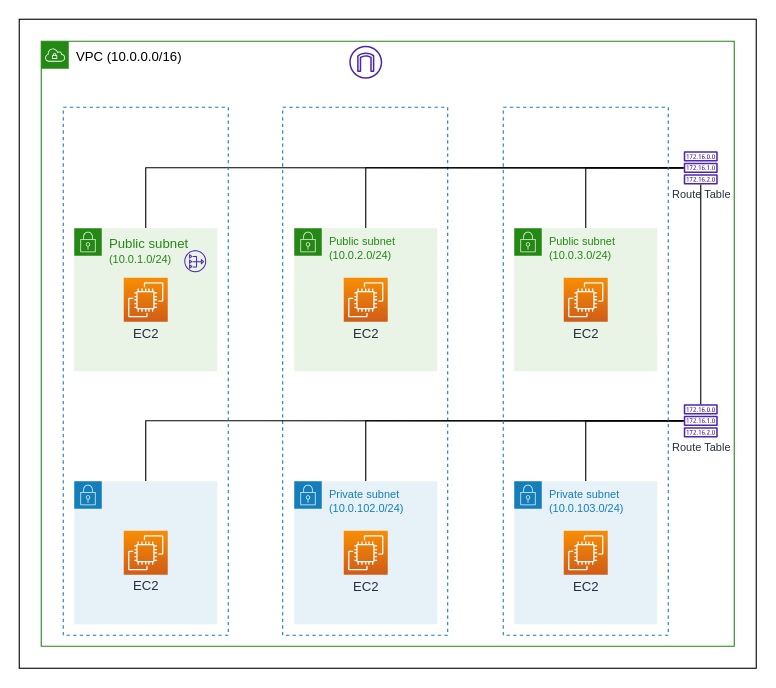
Image size: 776x688. Some labels were removed from this diagram. Each missing label, with the box of its shape:
Availability Zone①: (62, 106, 228, 635)
Availability Zone②: (282, 106, 448, 635)
Availability Zone③: (502, 106, 668, 635)
Internet GW: (349, 45, 382, 78)
NAT GW: (184, 250, 206, 272)
Private subnet (10.0.101.0/24): (73, 480, 217, 624)
